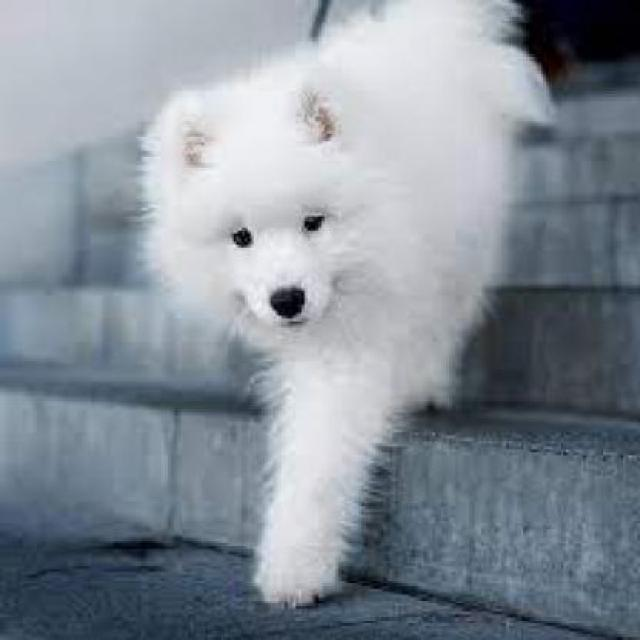animals: (57, 0, 557, 640)
